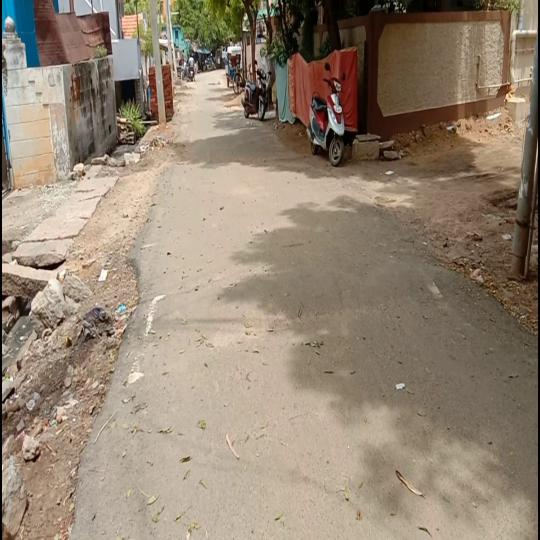Speed Bump: (129, 262, 463, 338)
